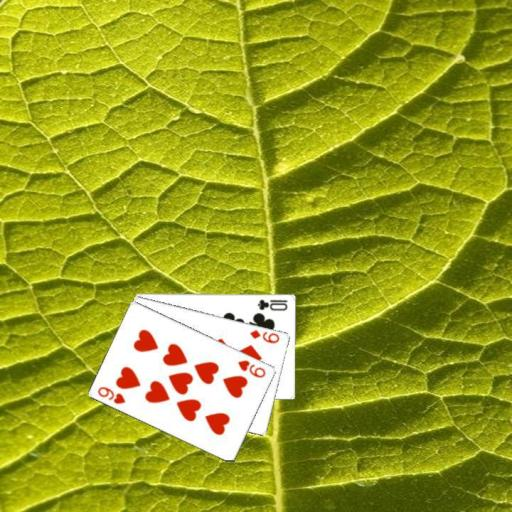10C: (255, 296, 289, 311)
9D: (247, 326, 281, 345)
9H: (235, 357, 267, 379), (95, 384, 127, 406)
